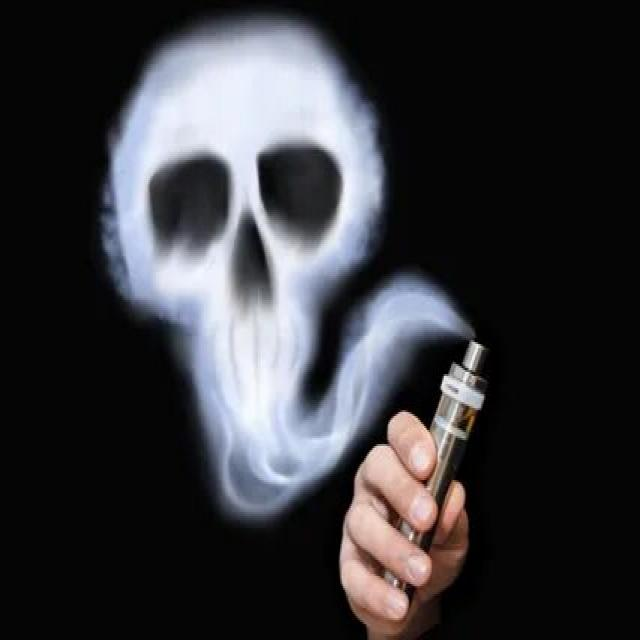smoke: (373, 334, 501, 624)
